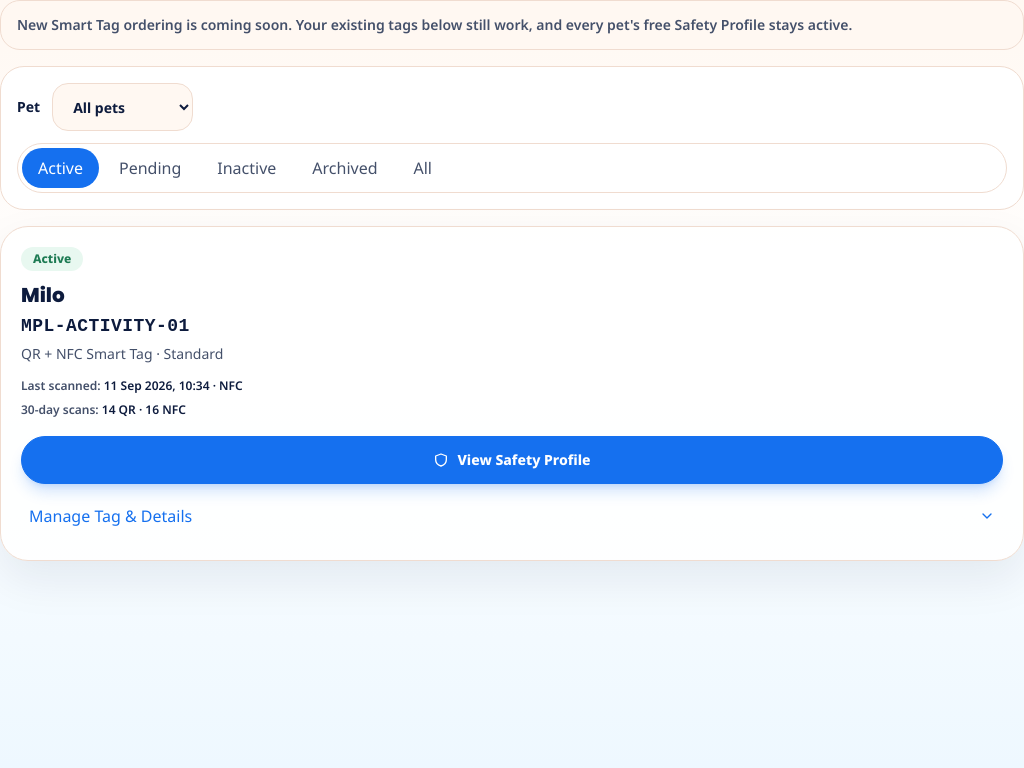
Test case: owner Smart Tag activity › supports empty history, owner-safe filtering, and paginated loading
This screenshot has width=1024, height=768.
Check: the text "MPL-ACTIVITY-01" is shown, box [21,316,190,336]
Click the button "Manage Tag & Details" at (111, 516), box [21,492,1003,540]
(page scrolled)
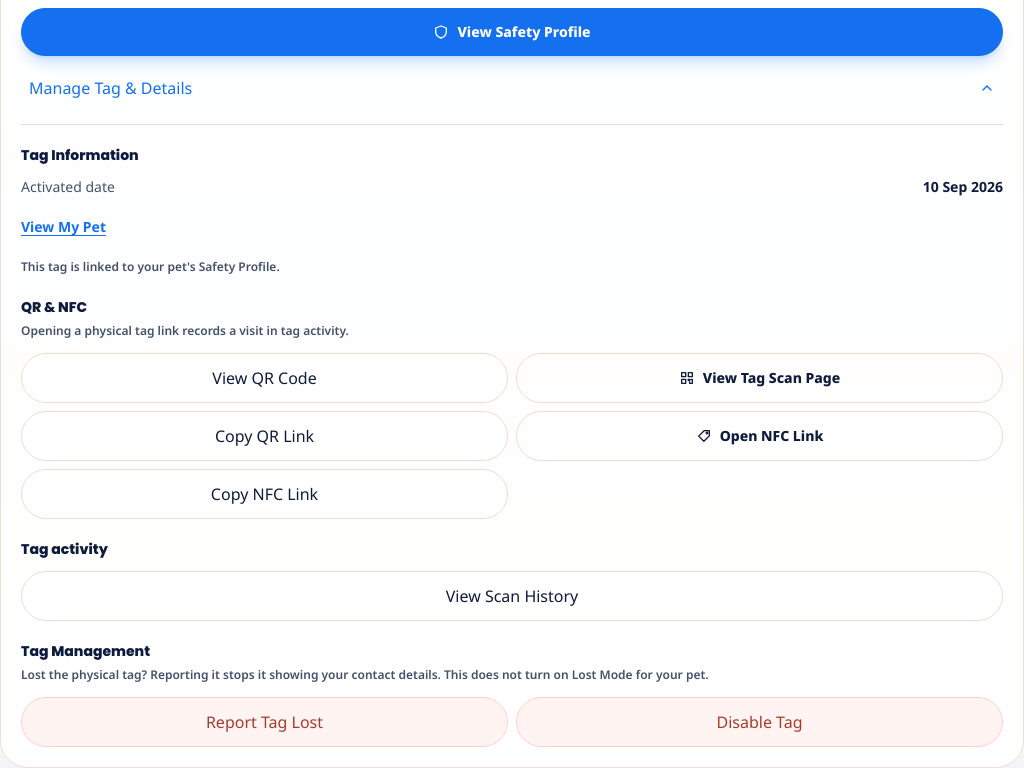
Click the button "View Scan History" at (512, 596), box [21,571,1003,621]
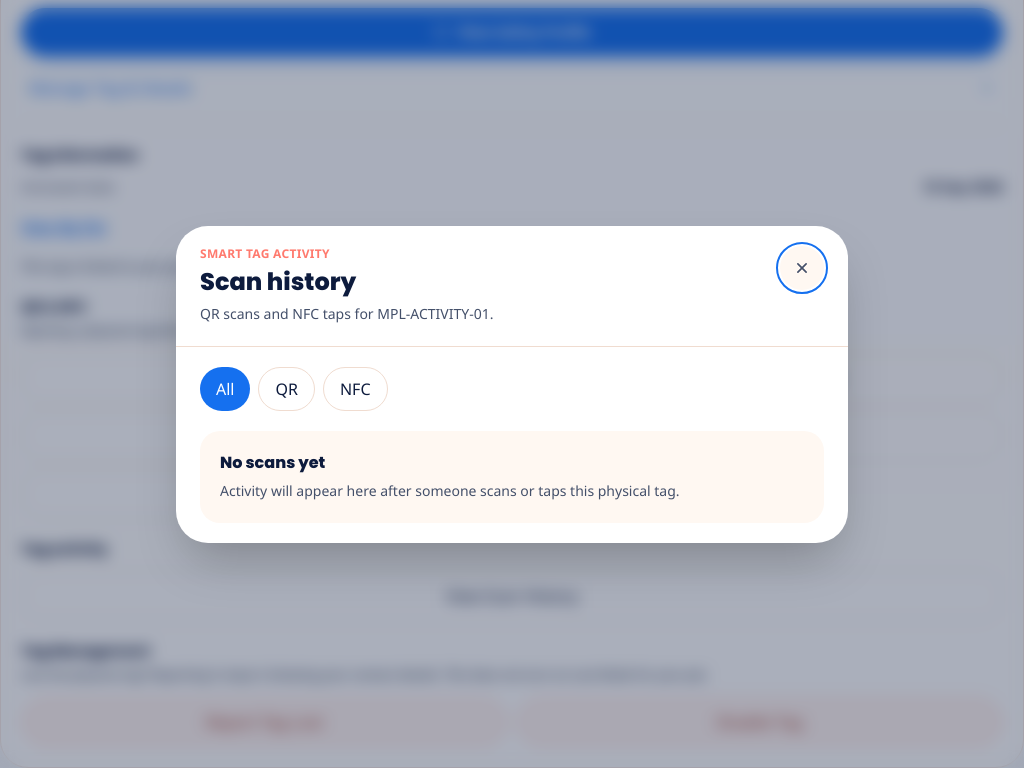
Check: the heading "No scans yet" is shown, box [220,450,325,474]
Click the button "QR" at (287, 388), box [258,366,315,410]
(page scrolled)
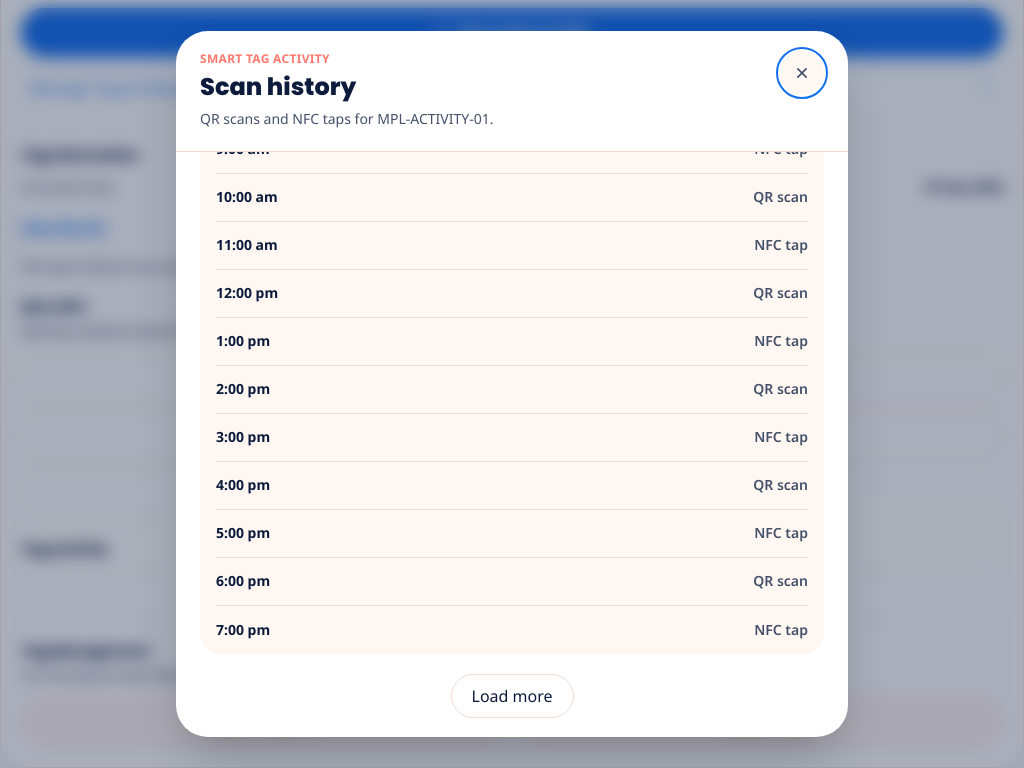
Click the button "Load more" at (512, 696), box [450,674,574,718]
(page scrolled)
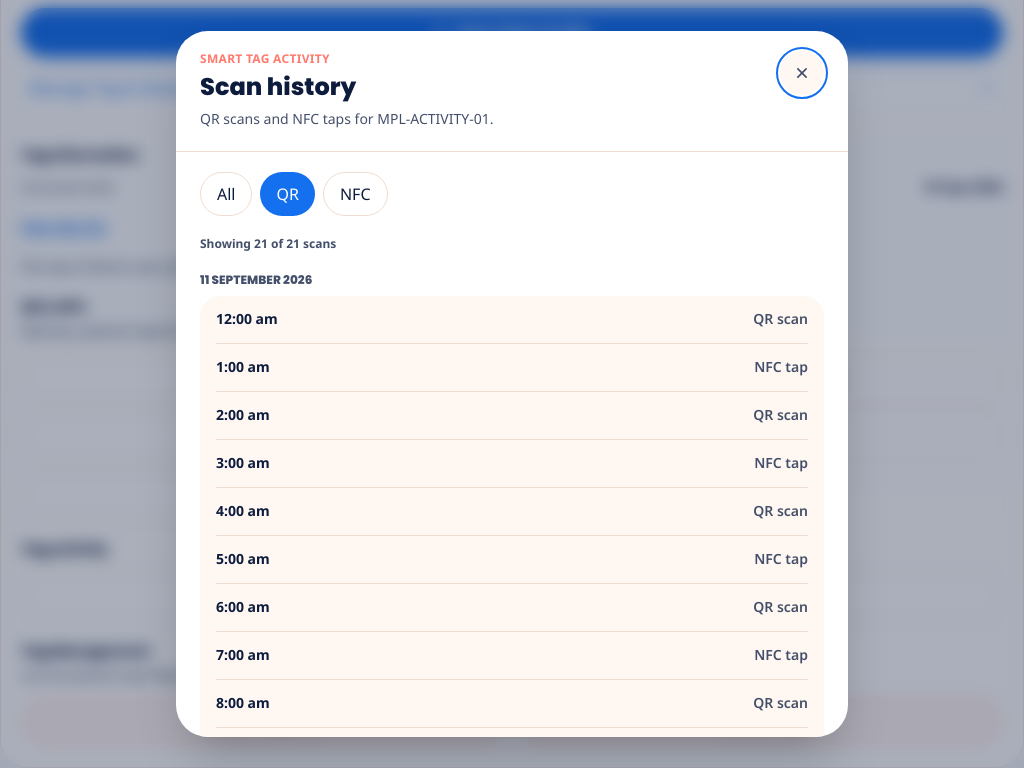
Check: the text "Showing 21 of 21 scans" is shown, box [200,235,336,252]
